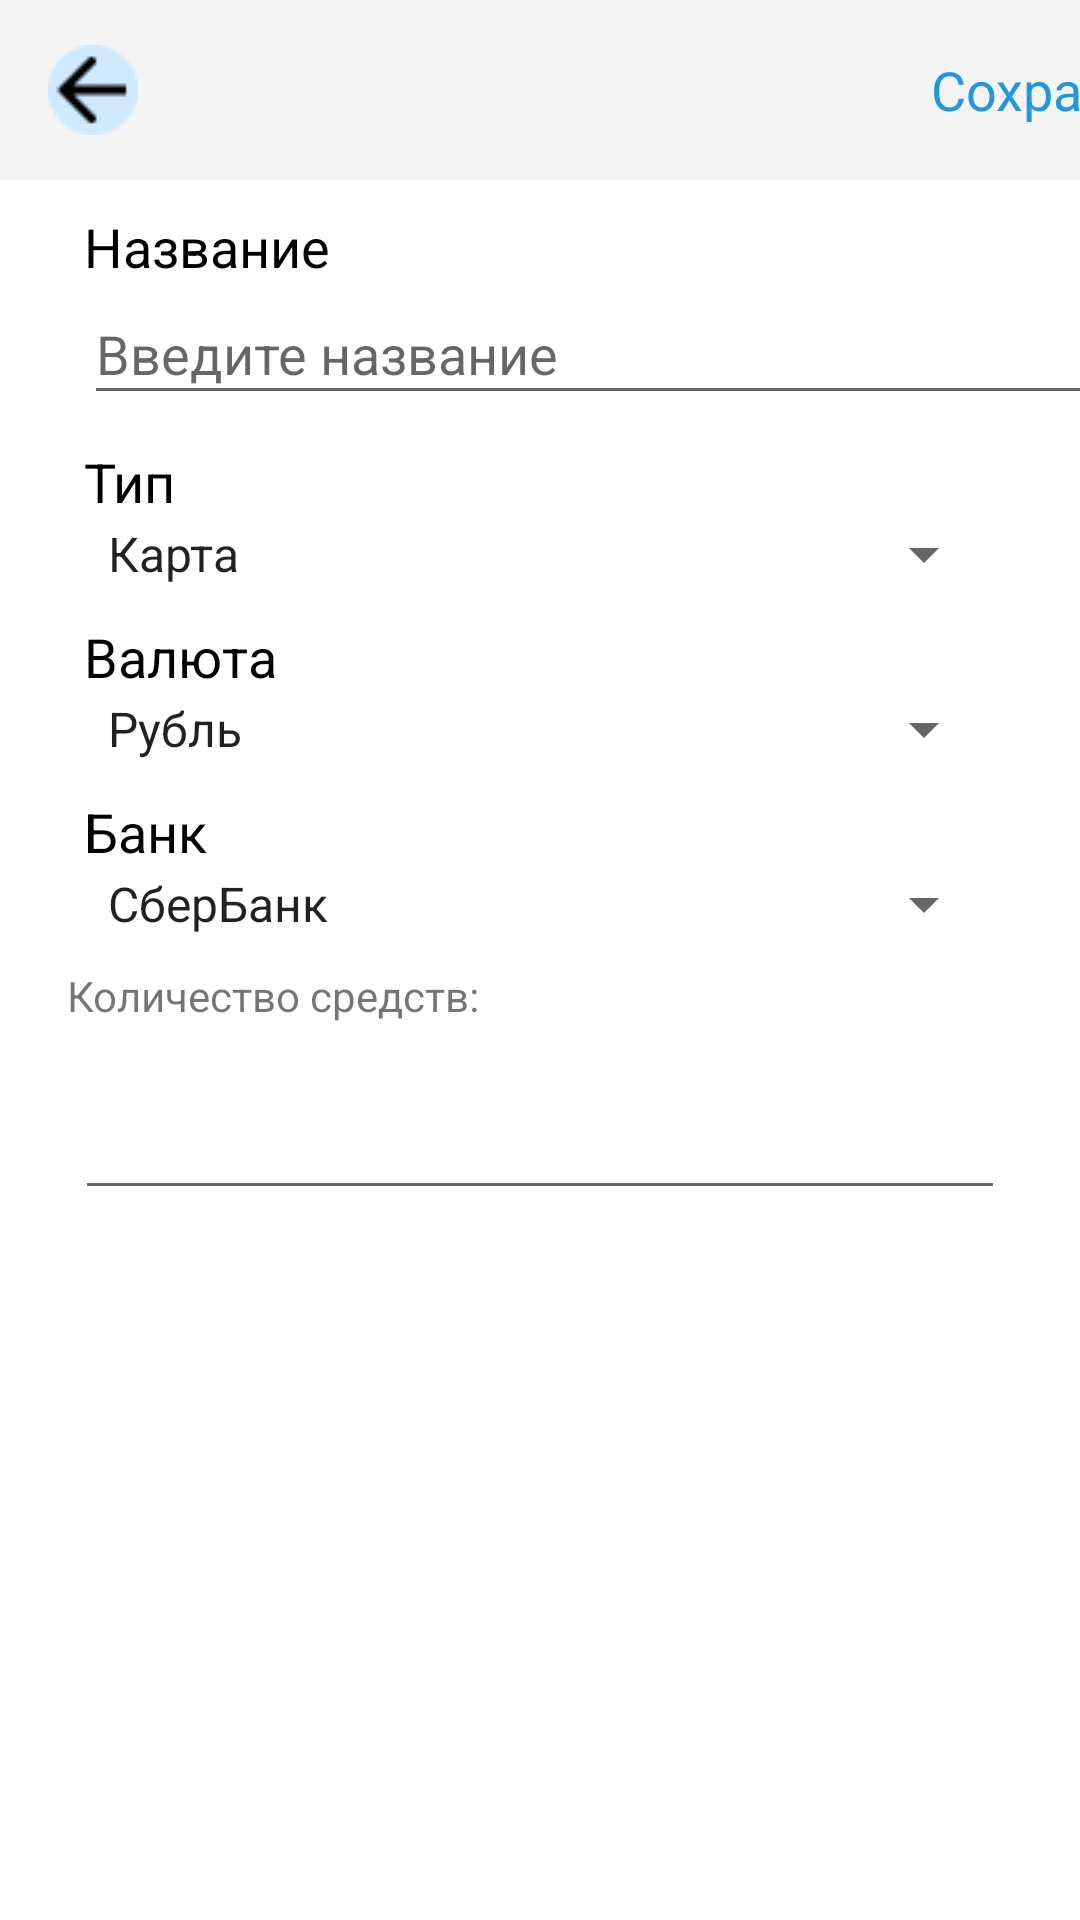

Where to tap for icons on this 1080*1920 app screen, as (x,y):
buttonback: (93,90)
